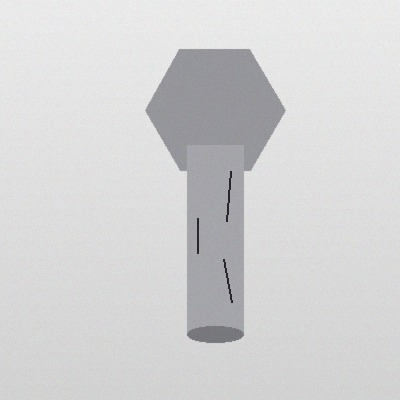scratch: (217, 255, 237, 306), (220, 167, 236, 225), (191, 214, 203, 257)
